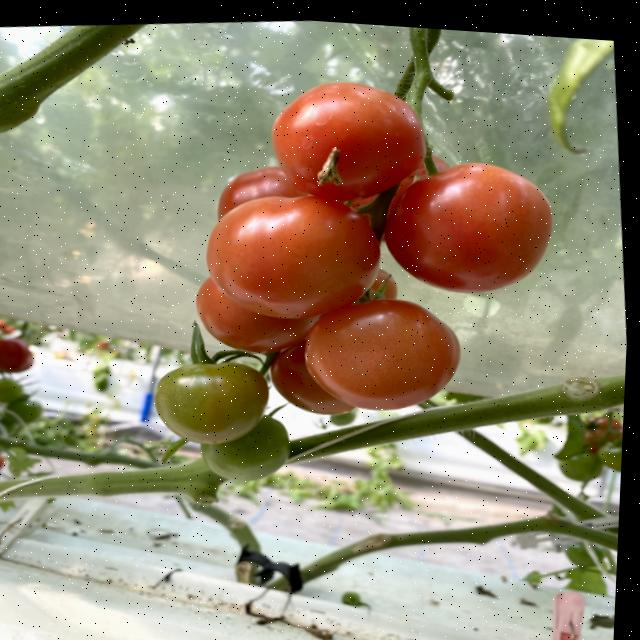ripe2: (386, 160, 553, 297), (205, 193, 377, 314), (269, 78, 425, 192), (305, 307, 463, 413)
